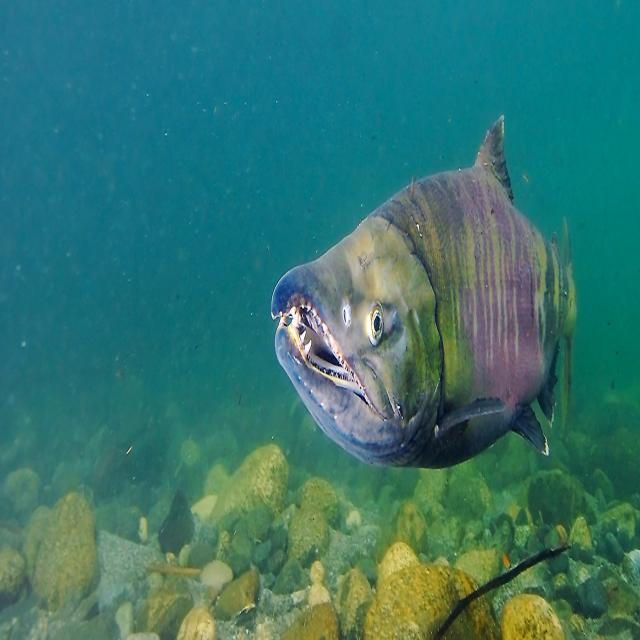salmon: (255, 102, 598, 501)
